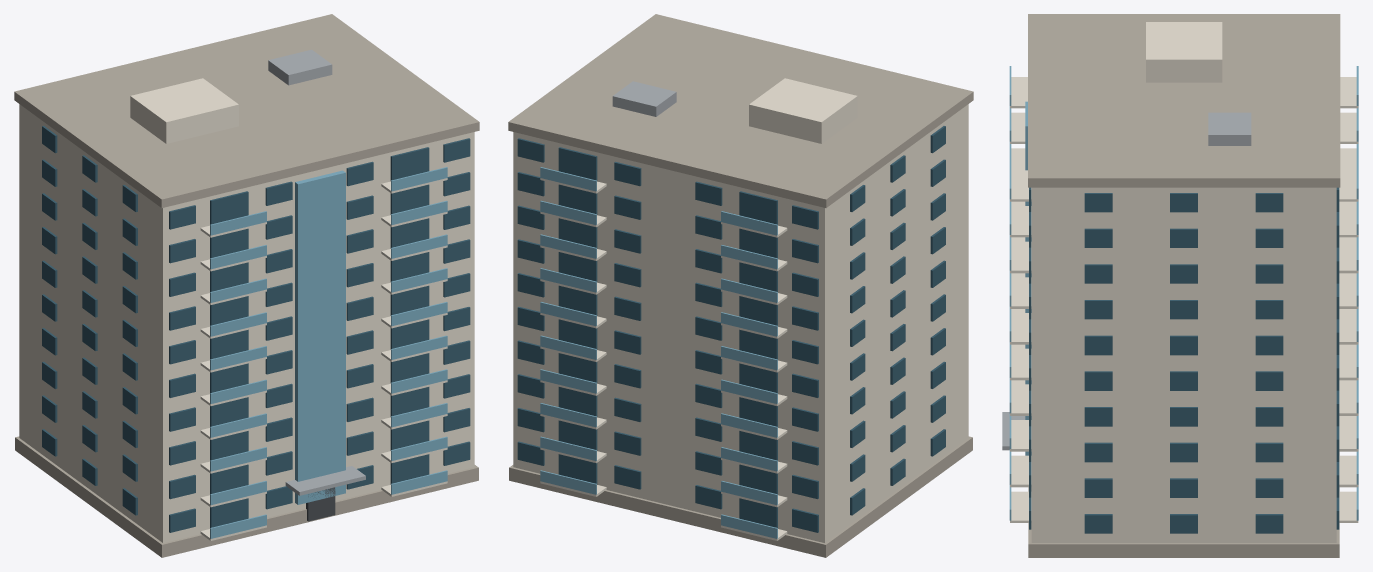
The model's file is midrise_b.glb.
The picture shows the model from 3 angles, left to right: view 1: azimuth 30°, elevation 25°; view 2: azimuth 150°, elevation 25°; view 3: azimuth 270°, elevation 25°; orthographic projection. The views are drawn at different scales.
Visible parts, largest first — view 1: mid_body, mid_parapet, mid_stair_glass, mid_plinth, mid_bulkhead, mid_hvac, mid_canopy, mid_balcony_door.037, mid_balcony_door.036, mid_balcony_door.005, mid_balcony_door.009, mid_balcony_door.029 (+36 smaller); view 2: mid_body, mid_parapet, mid_plinth, mid_bulkhead, mid_hvac, mid_balcony_door.039, mid_balcony_door.038, mid_balcony_door.007, mid_balcony_door.011, mid_balcony_door.031, mid_balcony_door.003, mid_balcony_door.019 (+33 smaller); view 3: mid_body, mid_parapet, mid_plinth, mid_bulkhead, mid_hvac, mid_balcony_slab.005, mid_balcony_slab.017, mid_balcony_slab.029, mid_balcony_slab.009, mid_balcony_slab.013, mid_balcony_slab.021, mid_balcony_slab.025 (+47 smaller).
Boxes of the visible parts, x1,y1,x2,y2 form: mid_body: [19, 104, 474, 542]; mid_parapet: [14, 14, 479, 207]; mid_stair_glass: [295, 170, 345, 504]; mid_plinth: [15, 436, 478, 557]; mid_bulkhead: [130, 78, 238, 143]; mid_hvac: [268, 49, 332, 85]; mid_canopy: [285, 466, 365, 495]; mid_balcony_door.037: [390, 147, 429, 180]; mid_balcony_door.036: [210, 191, 248, 224]; mid_balcony_door.005: [390, 420, 429, 450]; mid_balcony_door.009: [390, 387, 429, 416]; mid_balcony_door.029: [390, 218, 429, 248]; mid_body: [513, 104, 968, 542]; mid_parapet: [508, 14, 973, 207]; mid_plinth: [509, 436, 972, 557]; mid_bulkhead: [749, 78, 857, 143]; mid_hvac: [612, 81, 676, 116]; mid_balcony_door.039: [558, 147, 597, 180]; mid_balcony_door.038: [739, 191, 777, 224]; mid_balcony_door.007: [558, 420, 597, 450]; mid_balcony_door.011: [558, 387, 597, 416]; mid_balcony_door.031: [558, 218, 597, 248]; mid_balcony_door.003: [558, 454, 597, 484]; mid_balcony_door.019: [558, 319, 597, 349]; mid_body: [1031, 187, 1336, 542]; mid_parapet: [1028, 14, 1340, 187]; mid_plinth: [1028, 452, 1339, 557]; mid_bulkhead: [1146, 22, 1222, 82]; mid_hvac: [1208, 112, 1251, 145]; mid_balcony_slab.005: [1010, 455, 1031, 487]; mid_balcony_slab.017: [1010, 348, 1031, 380]; mid_balcony_slab.029: [1010, 241, 1031, 273]; mid_balcony_slab.009: [1010, 420, 1031, 451]; mid_balcony_slab.013: [1010, 384, 1031, 415]; mid_balcony_slab.021: [1010, 313, 1031, 344]; mid_balcony_slab.025: [1010, 277, 1031, 308].
Size of the model in its own units: 30.6 by 35 by 28.03.
